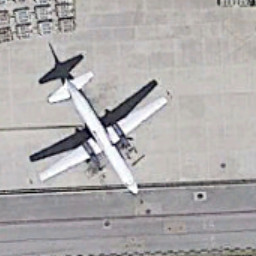Airplane: (19, 66, 178, 211)
